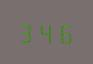four: (37, 19, 54, 44)
six: (55, 20, 72, 44)
three: (18, 19, 35, 43)
